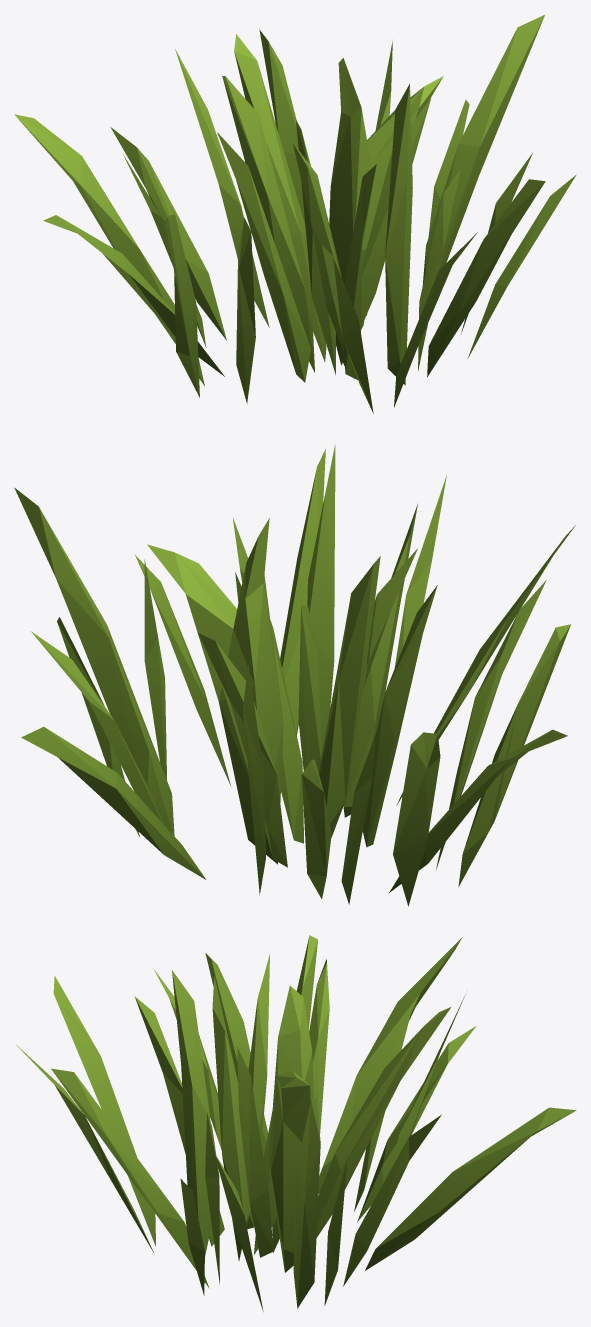
Rendered from ZLP_Grass_A_11.FBX.
3 views of the same model, one above another, from view 1: azimuth 30°, elevation 25°; view 2: azimuth 150°, elevation 25°; view 3: azimuth 270°, elevation 25° (orthographic). The views are drawn at different scales.
Parts seen in each view (by area): view 1: ZLP_Grass_A_11; view 2: ZLP_Grass_A_11; view 3: ZLP_Grass_A_11.
Part boxes in pixels (x1,y1,x2,y2): ZLP_Grass_A_11: [14, 15, 576, 413]; ZLP_Grass_A_11: [14, 444, 575, 906]; ZLP_Grass_A_11: [16, 935, 576, 1311].
Bounding box in the file's own units: 131 × 82.37 × 137.
